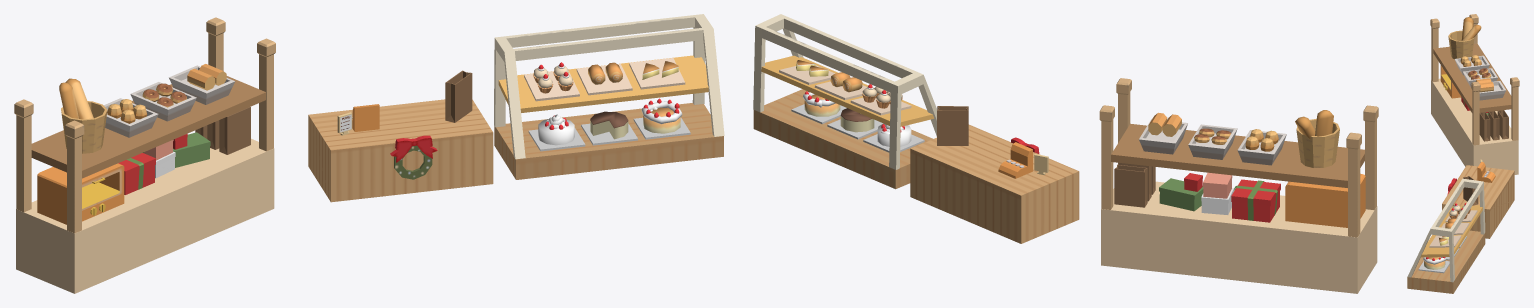
The model's file is Bakery.fbx.
3 renders of one model, left to right at view 1: azimuth 30°, elevation 25°; view 2: azimuth 150°, elevation 25°; view 3: azimuth 270°, elevation 25°, orthographic. The views are drawn at different scales.
Visible parts, largest first — view 1: Table, Showcase, Counter; view 2: Table, Showcase, Counter; view 3: Table, Showcase, Counter.
Part boxes in pixels (x1,y1,x2,y2): Table: (14, 17, 275, 293); Showcase: (494, 14, 724, 179); Counter: (308, 70, 493, 202); Table: (1099, 78, 1378, 293); Showcase: (753, 14, 937, 189); Counter: (910, 106, 1079, 243); Table: (1430, 14, 1519, 174); Showcase: (1407, 178, 1485, 293); Counter: (1442, 159, 1514, 238).
Bounding box in the file's own units: 1417 × 371 × 363.
